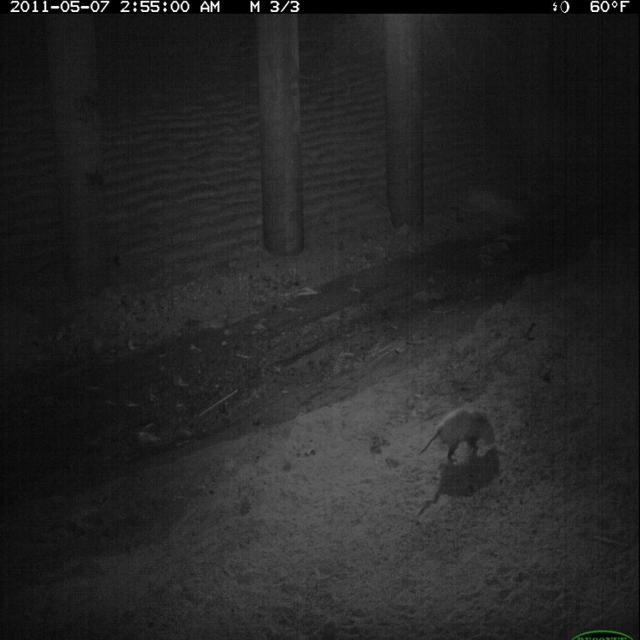opossum: (418, 404, 501, 472)
